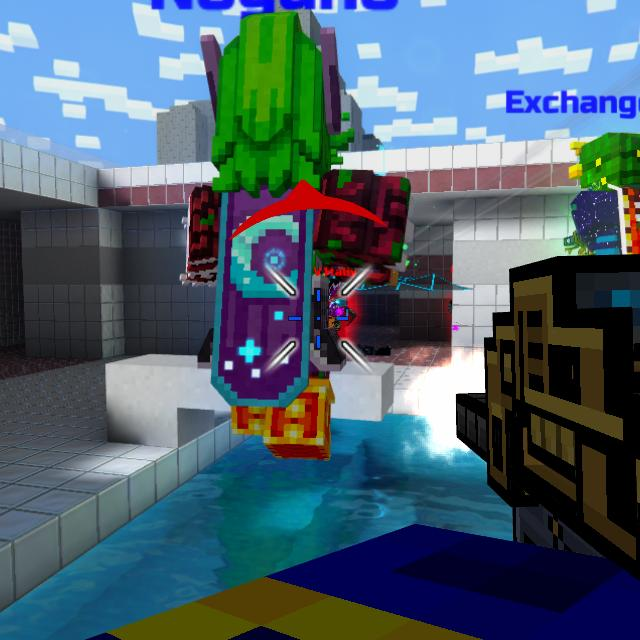Enemy: (329, 290, 358, 339)
